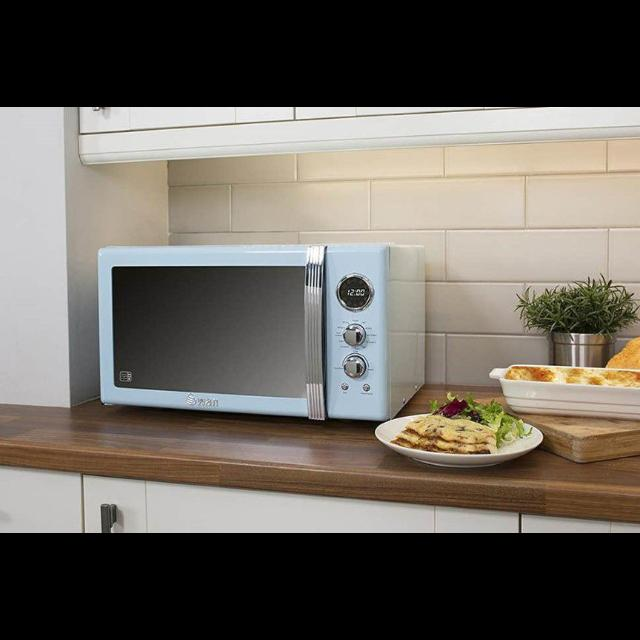Microwave: (95, 245, 429, 420)
